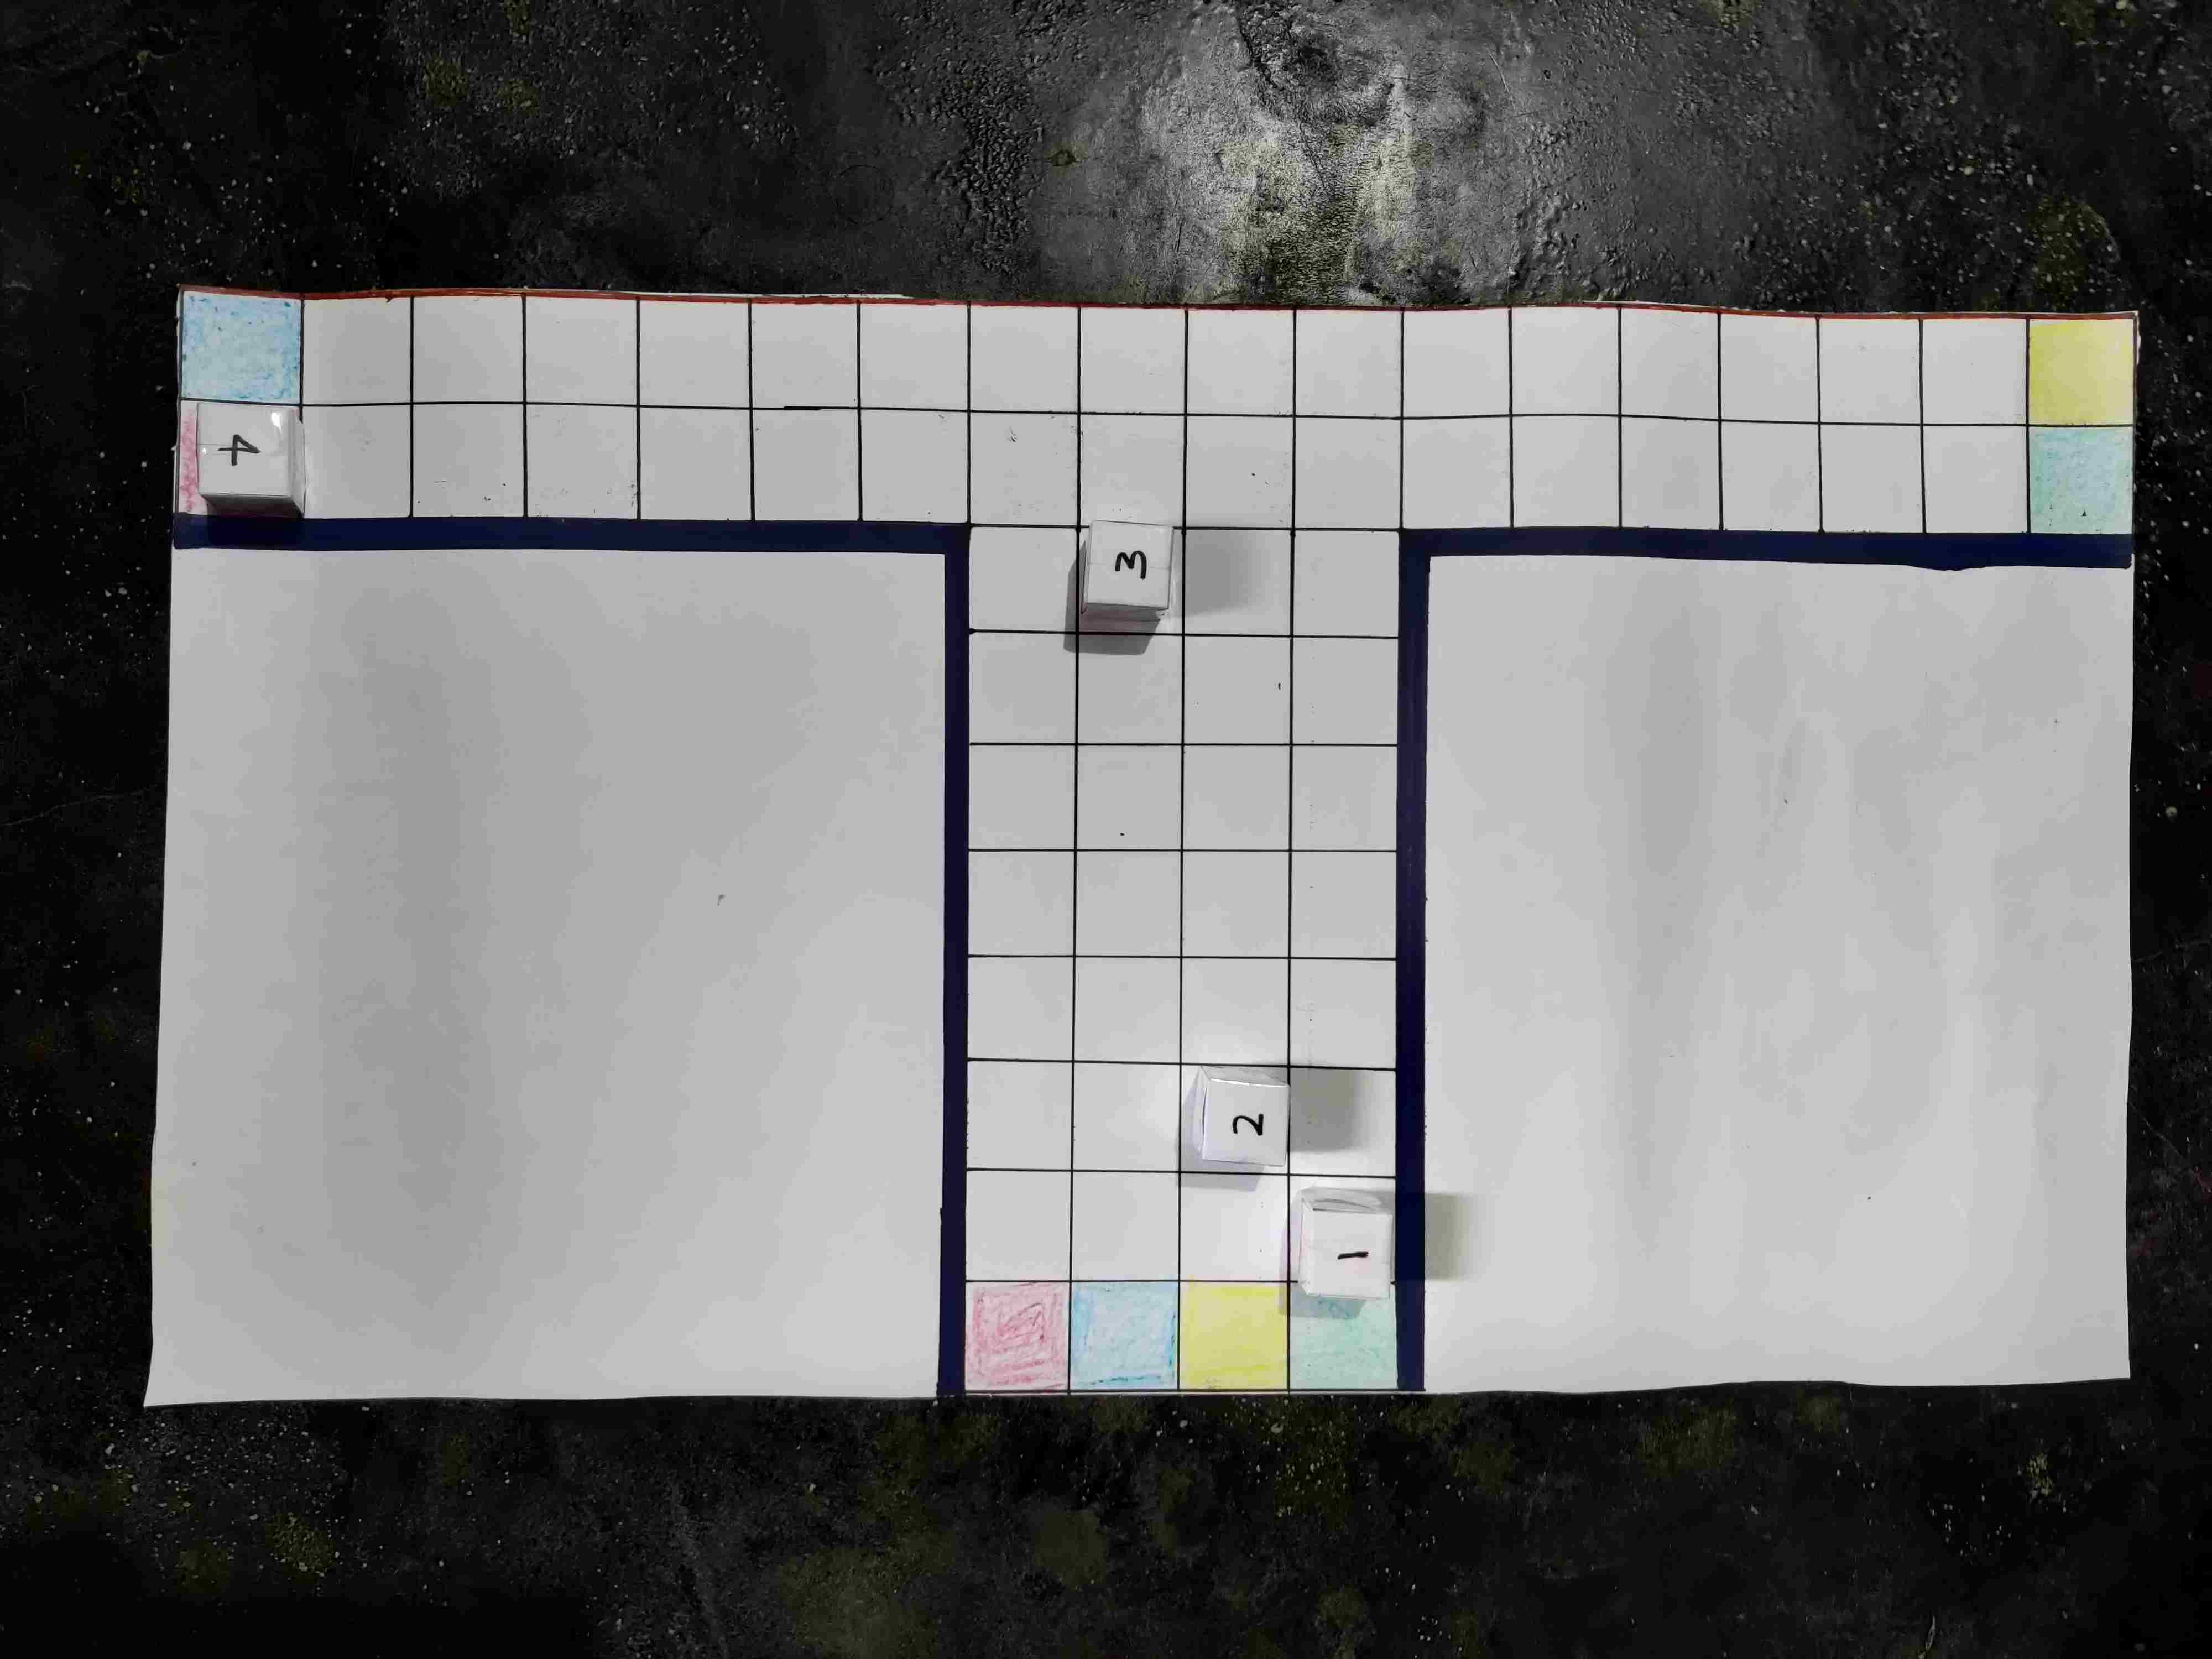arena: (204, 228, 2165, 1331)
bot: (1075, 1230, 1169, 1312), (996, 781, 1080, 868), (1200, 584, 1287, 664), (1310, 798, 1393, 873)
